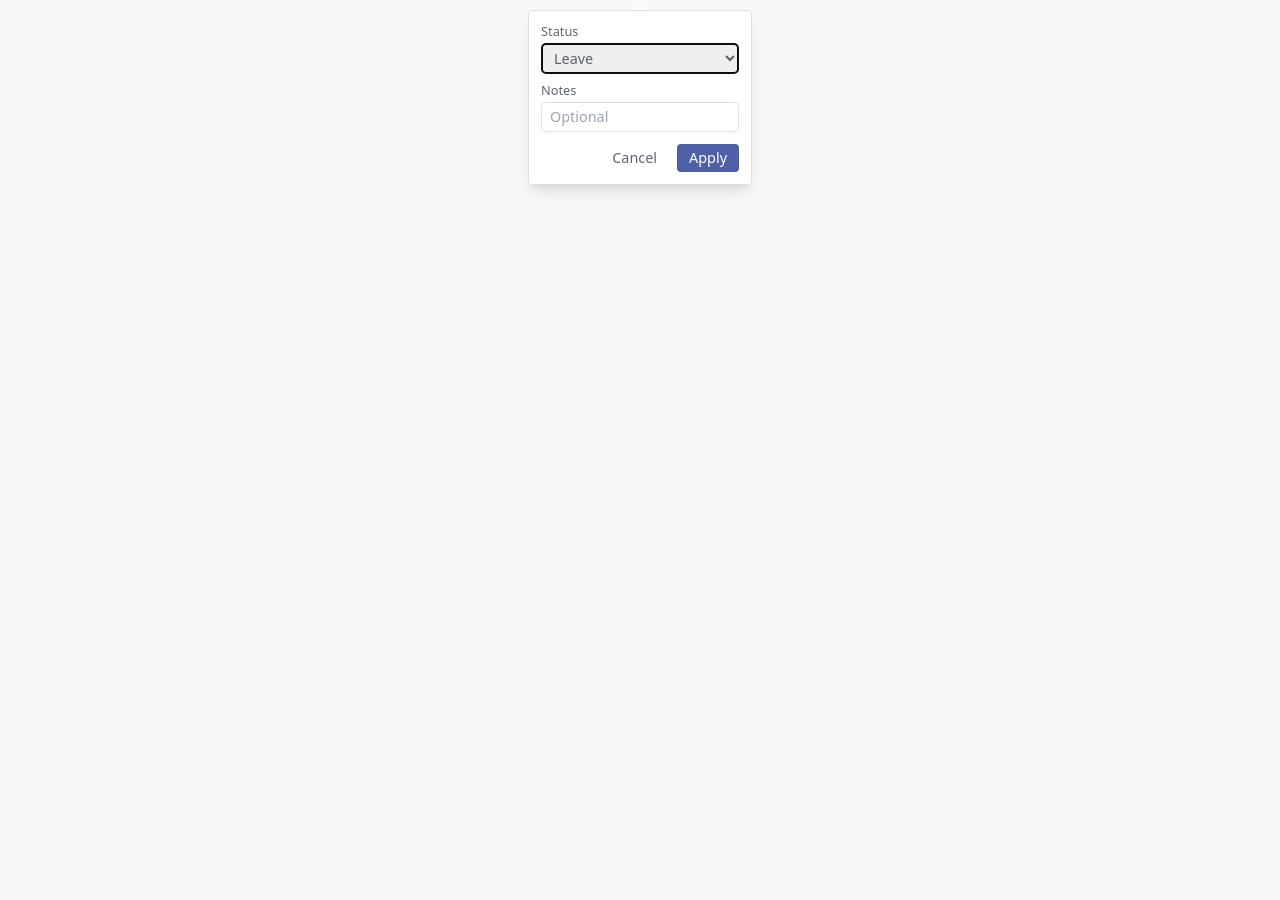
Test case: PlanningCellPopover compensation › shows the field only while the draft state is an extra session
Select "Extra session" in the dropdown with test id "planning-cell-state-select" at (640, 58), box [541, 43, 739, 74]
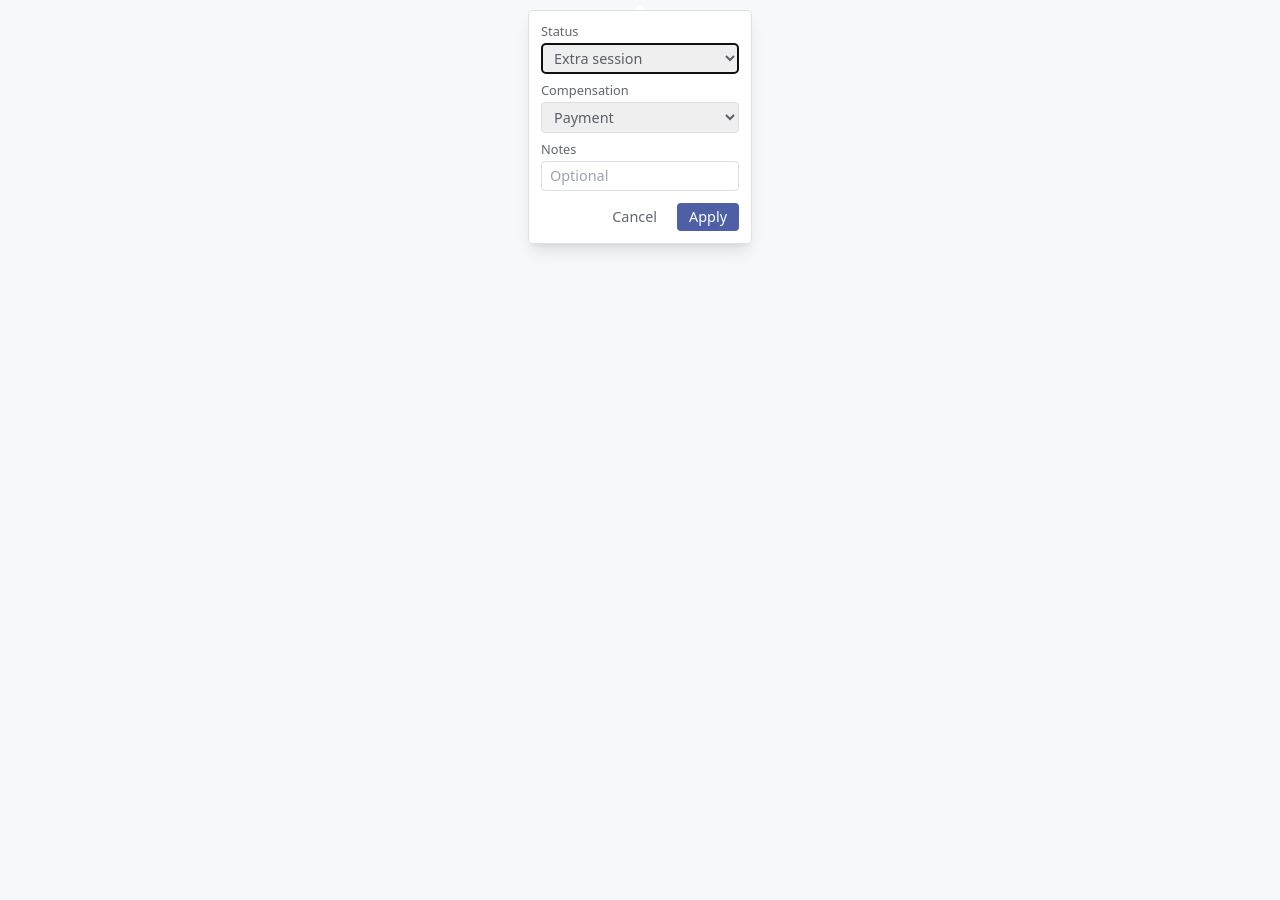
expect the dropdown with test id "planning-cell-compensation-select" is shown: met, box [541, 102, 739, 133]
Select "Blocked" in the dropdown with test id "planning-cell-state-select" at (640, 58), box [541, 43, 739, 74]
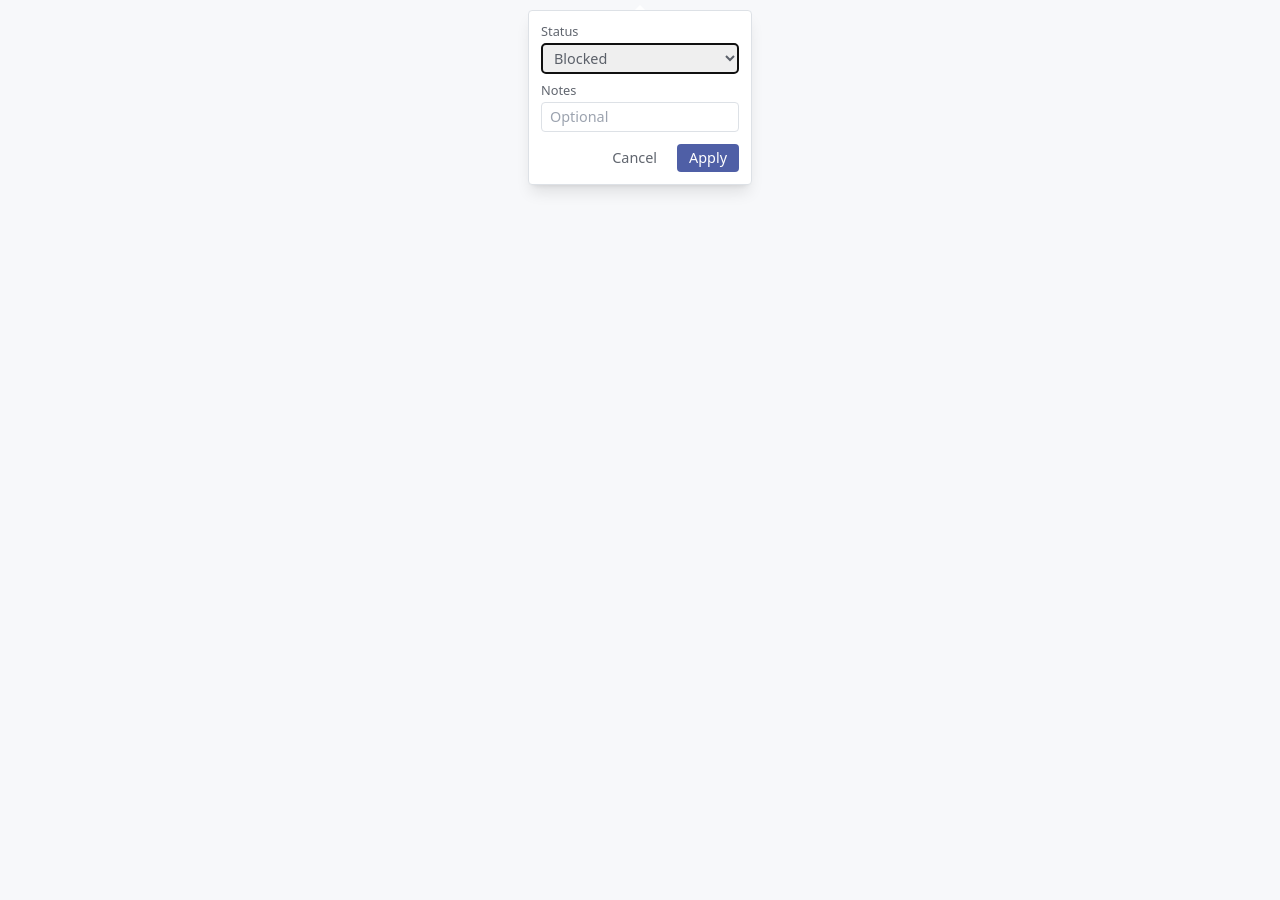
expect the dropdown with test id "planning-cell-compensation-select" is gone: met
